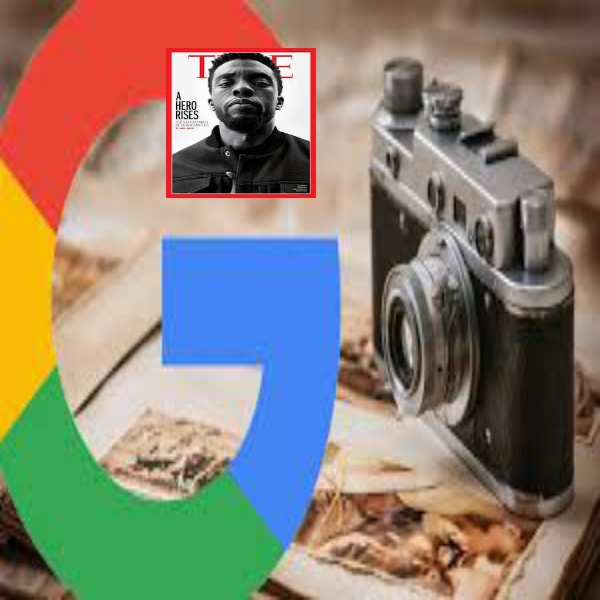time_cover: (164, 45, 315, 203)
